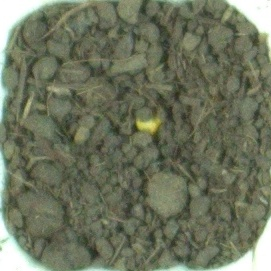pepper seed: (49, 37, 216, 174)
